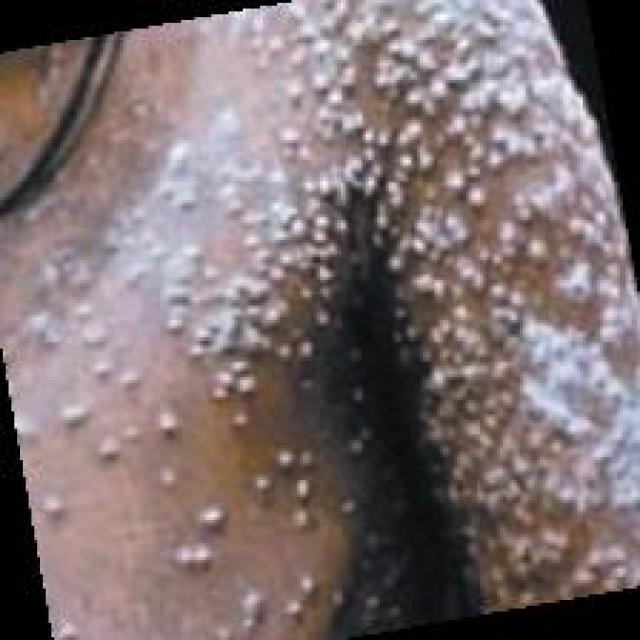monkeypox: (0, 29, 617, 637)
